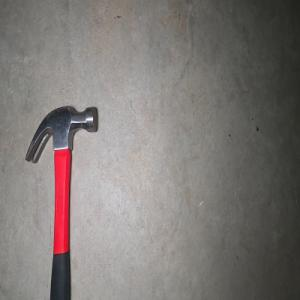Hammer: (23, 104, 98, 300)
